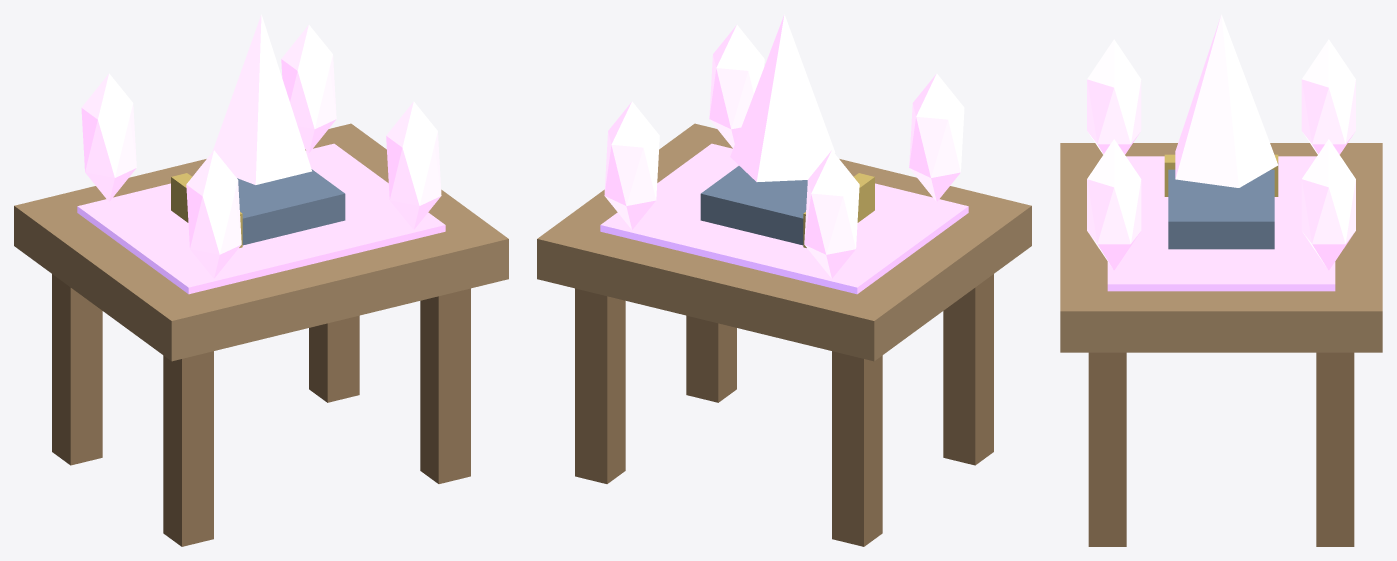
The model's file is enchanting_table.glb.
3 views of the same model, side by side, from view 1: azimuth 30°, elevation 25°; view 2: azimuth 150°, elevation 25°; view 3: azimuth 270°, elevation 25° (orthographic). The views are drawn at different scales.
Visible parts, largest first — view 1: top, rune_ring, leg.008, leg.010, focus, leg.009, book, crystal.002, crystal.003, crystal.001, crystal, leg.011 (+1 smaller); view 2: top, rune_ring, focus, leg.009, leg.011, leg.008, book, crystal.001, crystal, crystal.002, crystal.003, leg.010 (+1 smaller); view 3: top, rune_ring, focus, leg.010, leg.011, book, crystal, crystal.003, crystal.001, crystal.002, book_spine.
Part boxes in pixels (box(x1,y1,x2,y2)): top: box(14, 123, 508, 361); rune_ring: box(77, 143, 445, 294); leg.008: box(163, 351, 213, 546); leg.010: box(420, 288, 470, 483); focus: box(212, 14, 311, 184); leg.009: box(52, 274, 102, 465); book: box(237, 169, 345, 245); crystal.002: box(186, 150, 241, 278); crystal.003: box(386, 101, 441, 229); crystal.001: box(81, 73, 136, 201); crystal: box(281, 25, 336, 152); leg.011: box(309, 315, 359, 402); top: box(537, 123, 1031, 361); rune_ring: box(600, 143, 968, 294); focus: box(730, 14, 835, 181); leg.009: box(832, 351, 882, 546); leg.011: box(575, 288, 625, 483); leg.008: box(943, 274, 993, 465); book: box(700, 166, 807, 245); crystal.001: box(804, 150, 859, 278); crystal: box(604, 101, 659, 229); crystal.002: box(909, 73, 964, 201); crystal.003: box(709, 25, 764, 148); leg.010: box(686, 315, 736, 402); top: box(1060, 143, 1382, 352); rune_ring: box(1107, 156, 1335, 291); focus: box(1175, 14, 1277, 187); leg.010: box(1088, 352, 1126, 546); leg.011: box(1316, 352, 1354, 546); book: box(1168, 169, 1274, 249); crystal: box(1301, 139, 1355, 270); crystal.003: box(1087, 139, 1141, 270); crystal.001: box(1301, 39, 1355, 154); crystal.002: box(1087, 39, 1141, 154); book_spine: box(1164, 154, 1278, 196).
Size of the model in its own units: 1.05 by 1.34 by 0.85.
